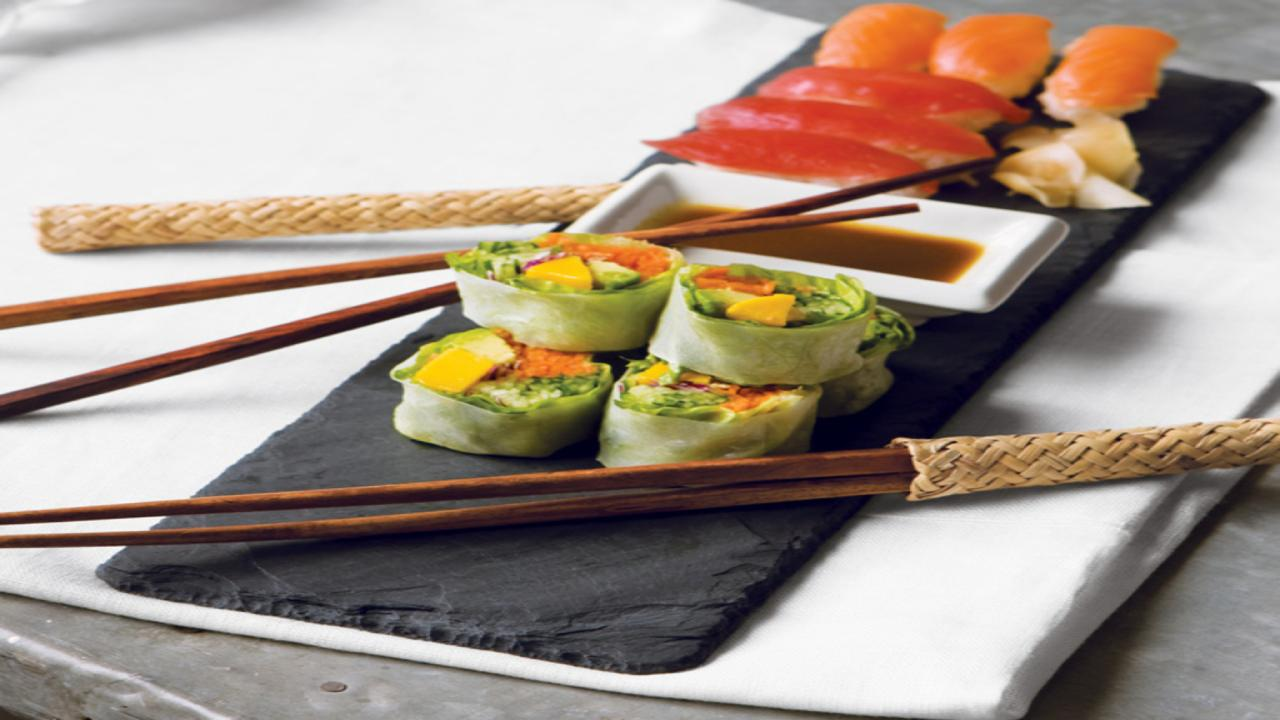chopstick: (0, 144, 1015, 415), (0, 447, 905, 546)
